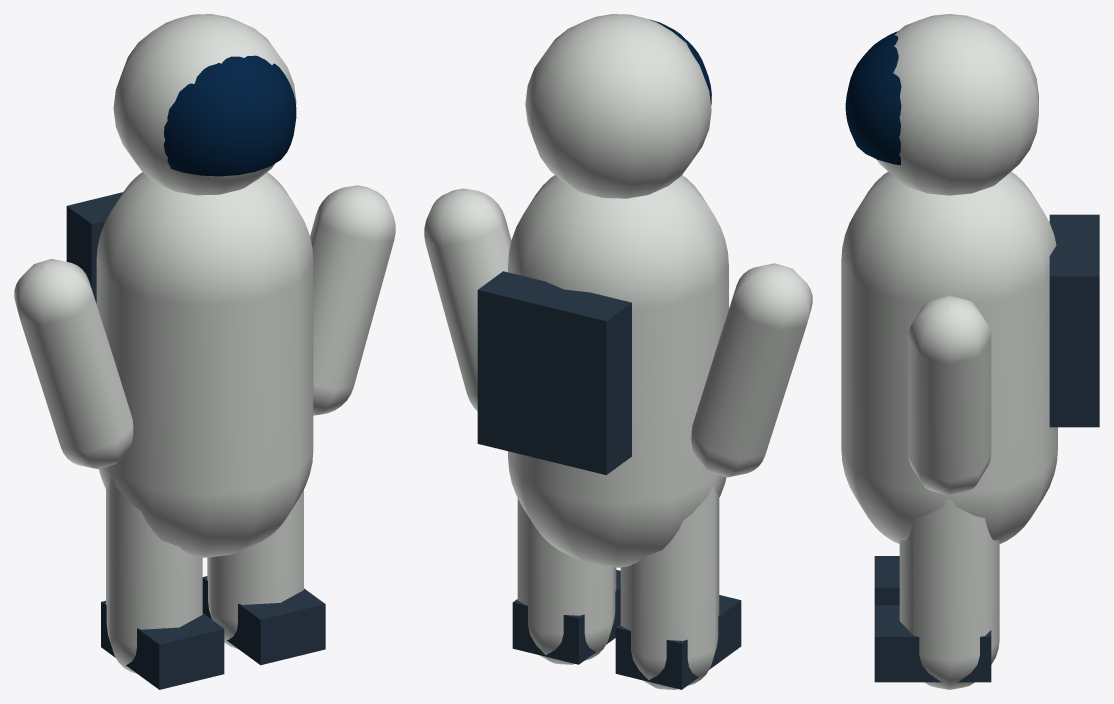
Rendered from astronaut.glb.
3 views of the same model, side by side, from view 1: azimuth 30°, elevation 25°; view 2: azimuth 150°, elevation 25°; view 3: azimuth 270°, elevation 25° (orthographic).
Visible parts, largest first — view 1: body, arm-L, arm-R, helmet, visor, leg-L, leg-R, boot-L, boot-R, pack; view 2: body, pack, helmet, arm-L, leg-L, arm-R, leg-R, boot-L, boot-R; view 3: body, helmet, arm-R, leg-R, pack, visor, boot-R, boot-L.
Part boxes in pixels (left/top/right/bottom): body: left=96, top=172, right=313, bottom=557; arm-L: left=14, top=259, right=133, bottom=469; arm-R: left=310, top=185, right=395, bottom=415; helmet: left=113, top=14, right=296, bottom=195; visor: left=163, top=55, right=296, bottom=176; leg-L: left=106, top=477, right=202, bottom=673; leg-R: left=207, top=490, right=303, bottom=649; boot-L: left=101, top=600, right=224, bottom=689; boot-R: left=202, top=576, right=325, bottom=665; pack: left=66, top=192, right=122, bottom=303; body: left=508, top=175, right=728, bottom=567; pack: left=477, top=271, right=631, bottom=475; helmet: left=525, top=14, right=711, bottom=198; arm-L: left=691, top=263, right=812, bottom=477; leg-L: left=620, top=485, right=719, bottom=689; arm-R: left=424, top=188, right=511, bottom=410; leg-R: left=517, top=498, right=616, bottom=664; boot-L: left=615, top=595, right=741, bottom=689; boot-R: left=512, top=570, right=620, bottom=664; body: left=841, top=171, right=1057, bottom=543; helmet: left=876, top=14, right=1038, bottom=195; arm-R: left=908, top=295, right=991, bottom=495; leg-R: left=899, top=499, right=999, bottom=689; pack: left=1049, top=214, right=1099, bottom=427; visor: left=845, top=31, right=901, bottom=165; boot-R: left=874, top=605, right=991, bottom=682; boot-L: left=874, top=556, right=899, bottom=605.
Size of the model in its own units: 1.03 by 1.69 by 0.62.
